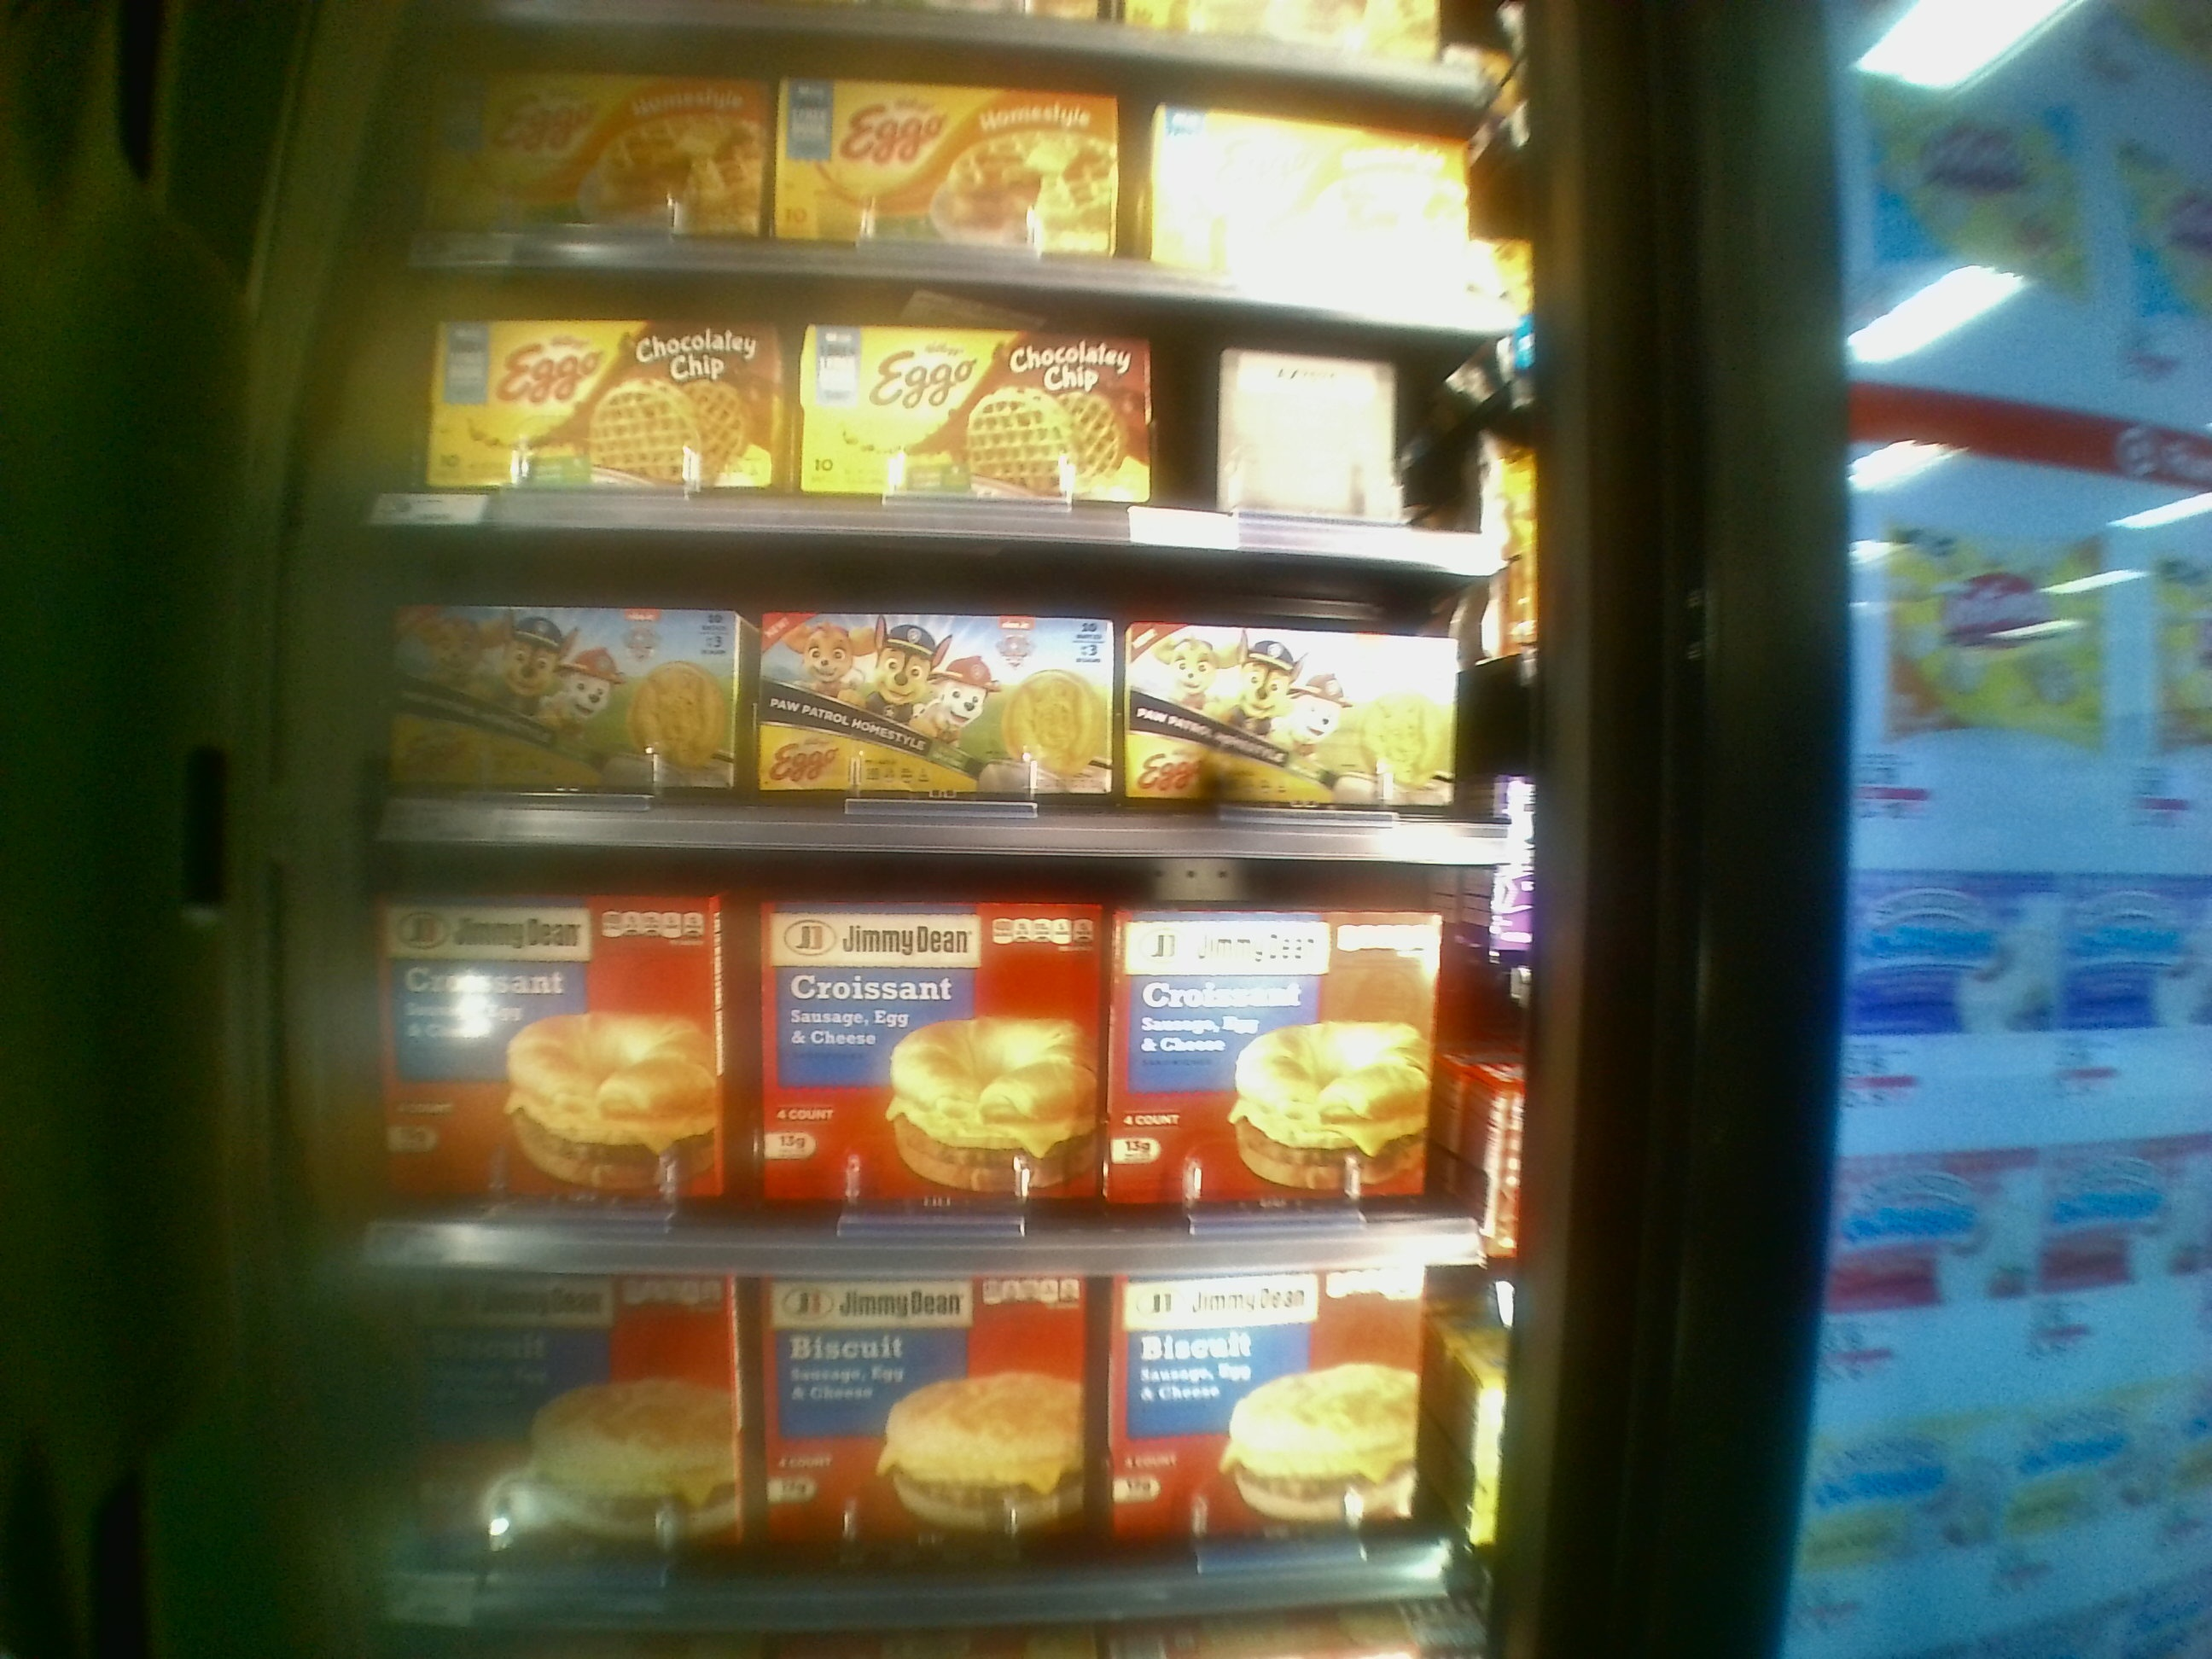shelf: (355, 871, 1500, 1265), (369, 1274, 1494, 1624), (380, 521, 1521, 859), (387, 272, 1505, 563)
